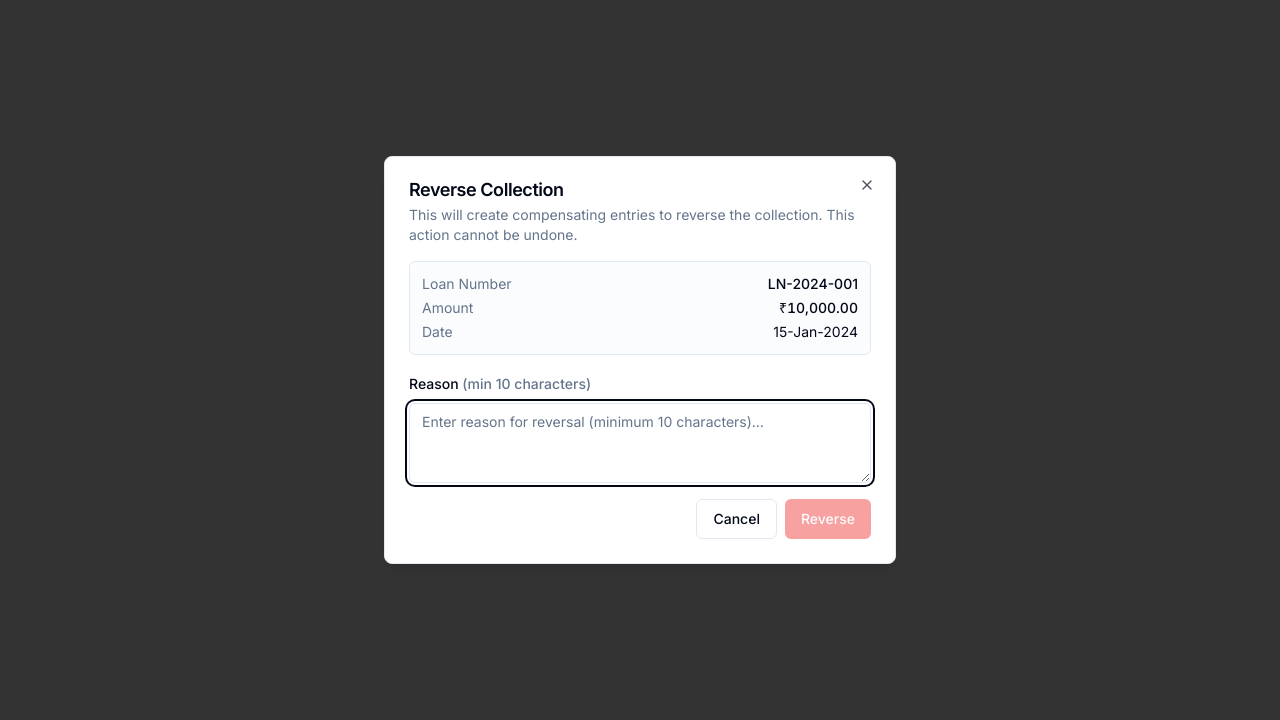
ReversalDialog › Error Handling › does not close dialog on error
The image size is (1280, 720).
Type "Valid reason text" into the text box.
click(640, 443); type("Valid reason text")  # box top-left (409, 403), bottom-right (871, 483)
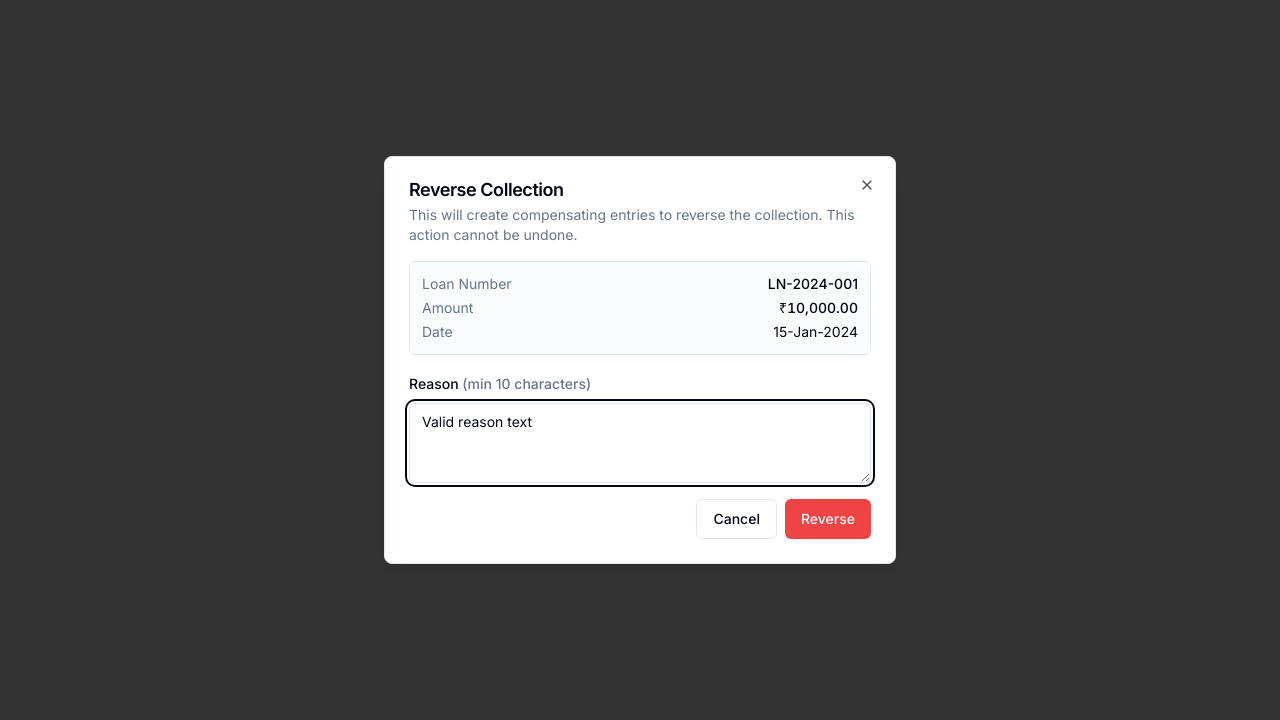
Click the button "Reverse".
click(828, 519)  # box top-left (785, 499), bottom-right (871, 539)
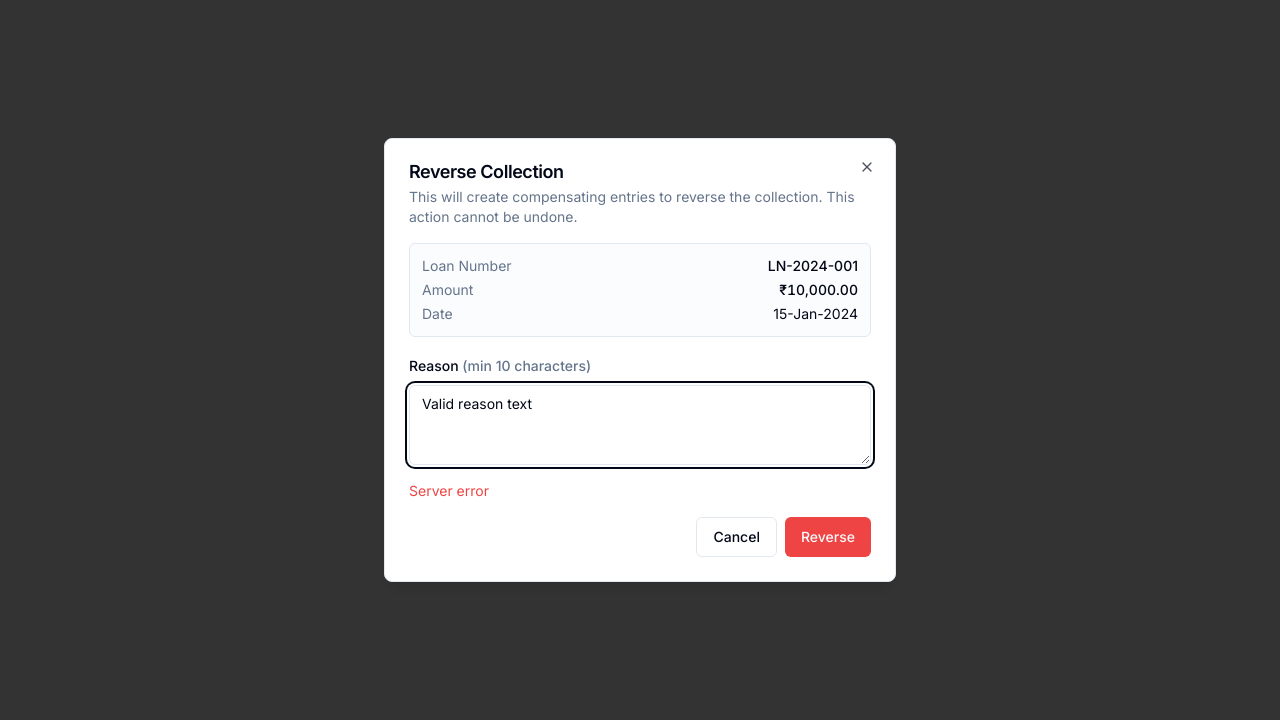
Now the text "Server error" is shown, box top-left (409, 482), bottom-right (489, 499)
